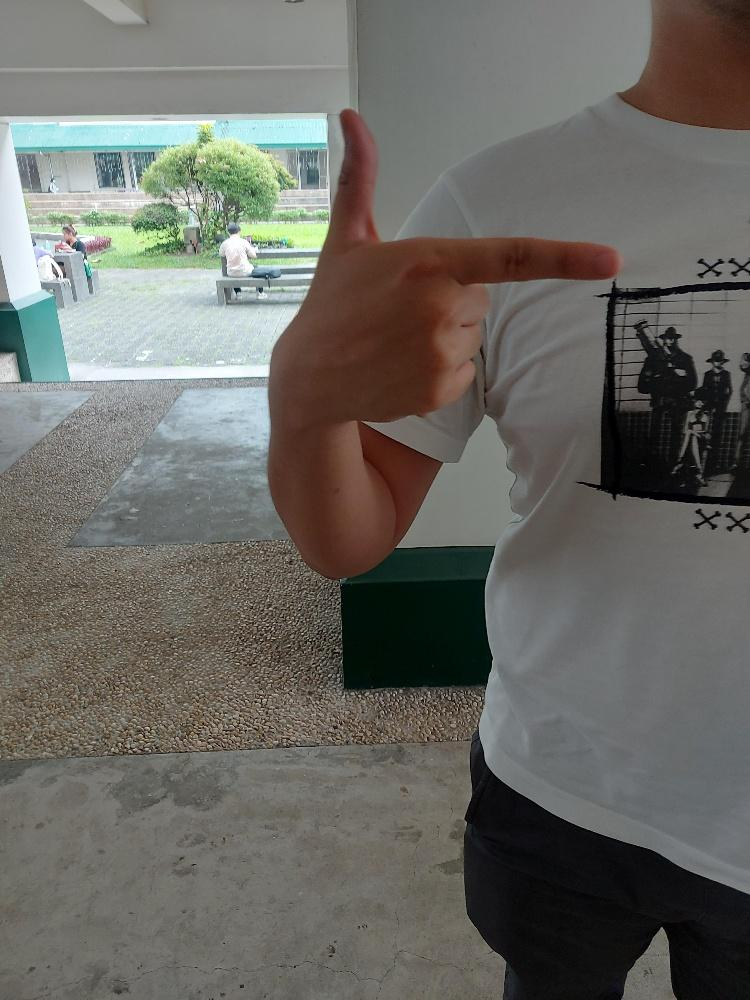g: (265, 103, 622, 427)
